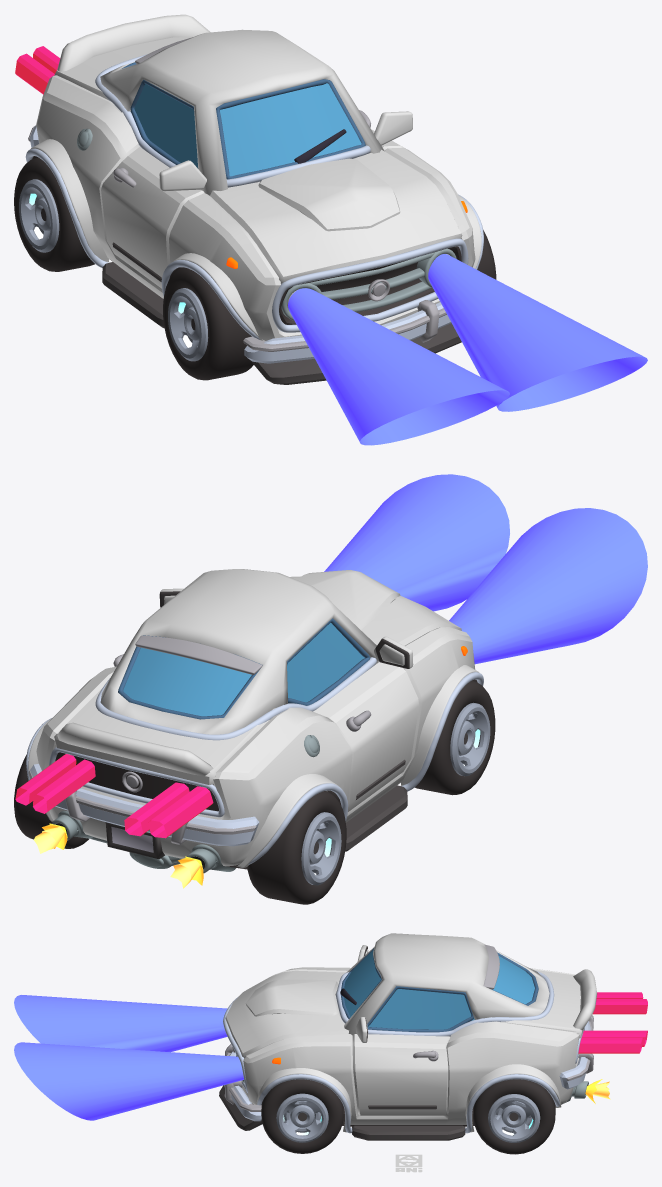
The model's file is CamaroNight.fbx.
3 renders of one model, top to bottom at view 1: azimuth 30°, elevation 25°; view 2: azimuth 150°, elevation 25°; view 3: azimuth 270°, elevation 25°, orthographic. The views are drawn at different scales.
Visible parts, largest first — view 1: Sphere.004, Cube.017, Cube.016, Cube.014, Cube.012, Cube.009, Cube.007, Cylinder.030, Cylinder.035, Cube.015, Cylinder.029, NurbsPath.005 (+15 smaller); view 2: Sphere.004, Cube.016, Cube.017, Cube.012, Cube.009, Plane.017, Cylinder.029, Cube.006, Cylinder.035, Cube.015, Cylinder.030, Cube.007 (+17 smaller); view 3: Sphere.004, Cube.017, Cube.016, Cube.009, Cube.012, Cube.014, Cylinder.027, Cylinder.017, Cube.007, Plane.017, Cube.006, Cylinder.035 (+16 smaller).
Part boxes in pixels (<box>): Sphere.004: <box>288,254,647,445</box>; Cube.017: <box>36,75,475,340</box>; Cube.016: <box>100,29,384,195</box>; Cube.014: <box>210,149,462,283</box>; Cube.012: <box>130,83,361,176</box>; Cube.009: <box>101,129,405,288</box>; Cube.007: <box>258,158,400,231</box>; Cylinder.030: <box>163,267,253,380</box>; Cylinder.035: <box>30,139,481,340</box>; Cube.015: <box>57,14,210,71</box>; Cylinder.029: <box>14,157,94,271</box>; NurbsPath.005: <box>272,238,468,332</box>; Sphere.004: <box>324,474,647,664</box>; Cube.016: <box>100,569,377,734</box>; Cube.017: <box>36,627,475,869</box>; Cube.012: <box>123,623,364,716</box>; Cube.009: <box>313,662,419,811</box>; Plane.017: <box>15,754,213,838</box>; Cylinder.029: <box>247,791,346,904</box>; Cube.006: <box>54,689,275,784</box>; Cylinder.035: <box>28,665,479,868</box>; Cube.015: <box>57,722,213,775</box>; Cylinder.030: <box>415,680,495,795</box>; Cube.007: <box>297,570,400,629</box>; Sphere.004: <box>14,995,243,1120</box>; Cube.017: <box>242,967,579,1126</box>; Cube.016: <box>344,933,549,1035</box>; Cube.009: <box>352,1034,449,1115</box>; Cube.012: <box>344,949,534,1029</box>; Cube.014: <box>225,970,348,1057</box>; Cylinder.027: <box>473,1079,555,1154</box>; Cylinder.017: <box>261,1079,343,1153</box>; Cube.007: <box>245,979,338,1016</box>; Plane.017: <box>578,992,647,1053</box>; Cube.006: <box>489,969,583,1038</box>; Cylinder.035: <box>256,1064,561,1132</box>.
Size of the model in its own units: 14.5 by 9.46 by 33.57.
